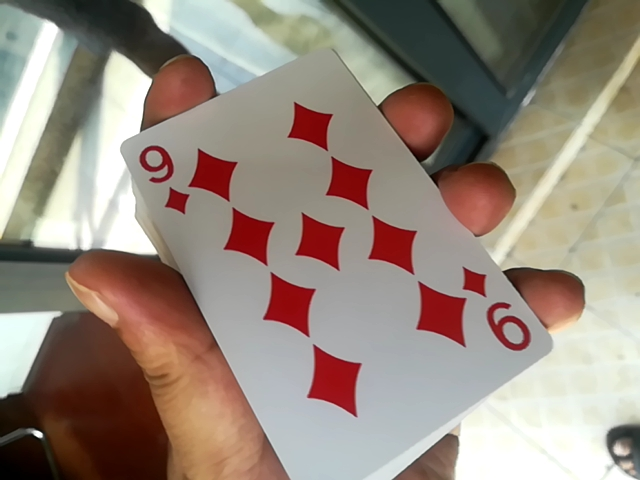fk 9: (90, 39, 552, 480)
